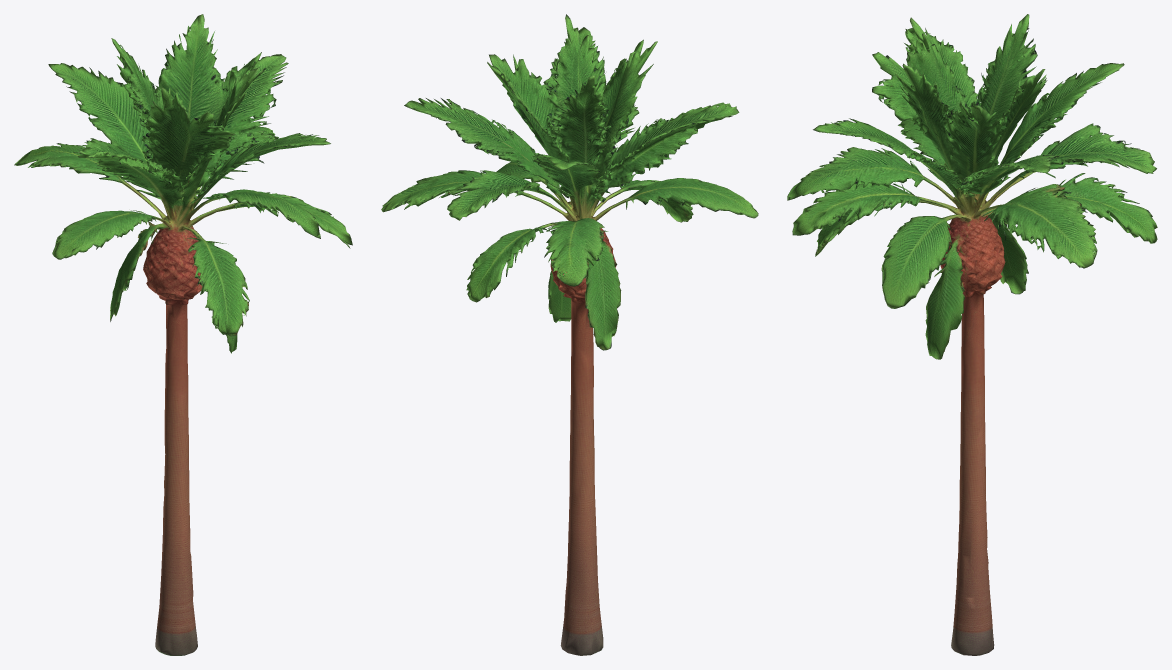
File: palm_tree.glb
3 views of the same model, side by side, from view 1: azimuth 30°, elevation 25°; view 2: azimuth 150°, elevation 25°; view 3: azimuth 270°, elevation 25° (orthographic). The views are drawn at different scales.
Size of the model in its own units: 0.9807 by 1.91 by 1.04.
Materials: 1 (1 with a texture image).
